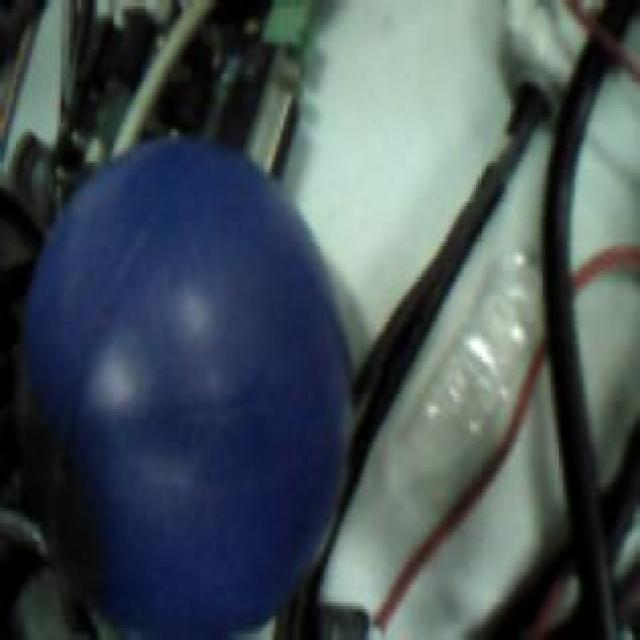BallPurple: (23, 137, 346, 635)
